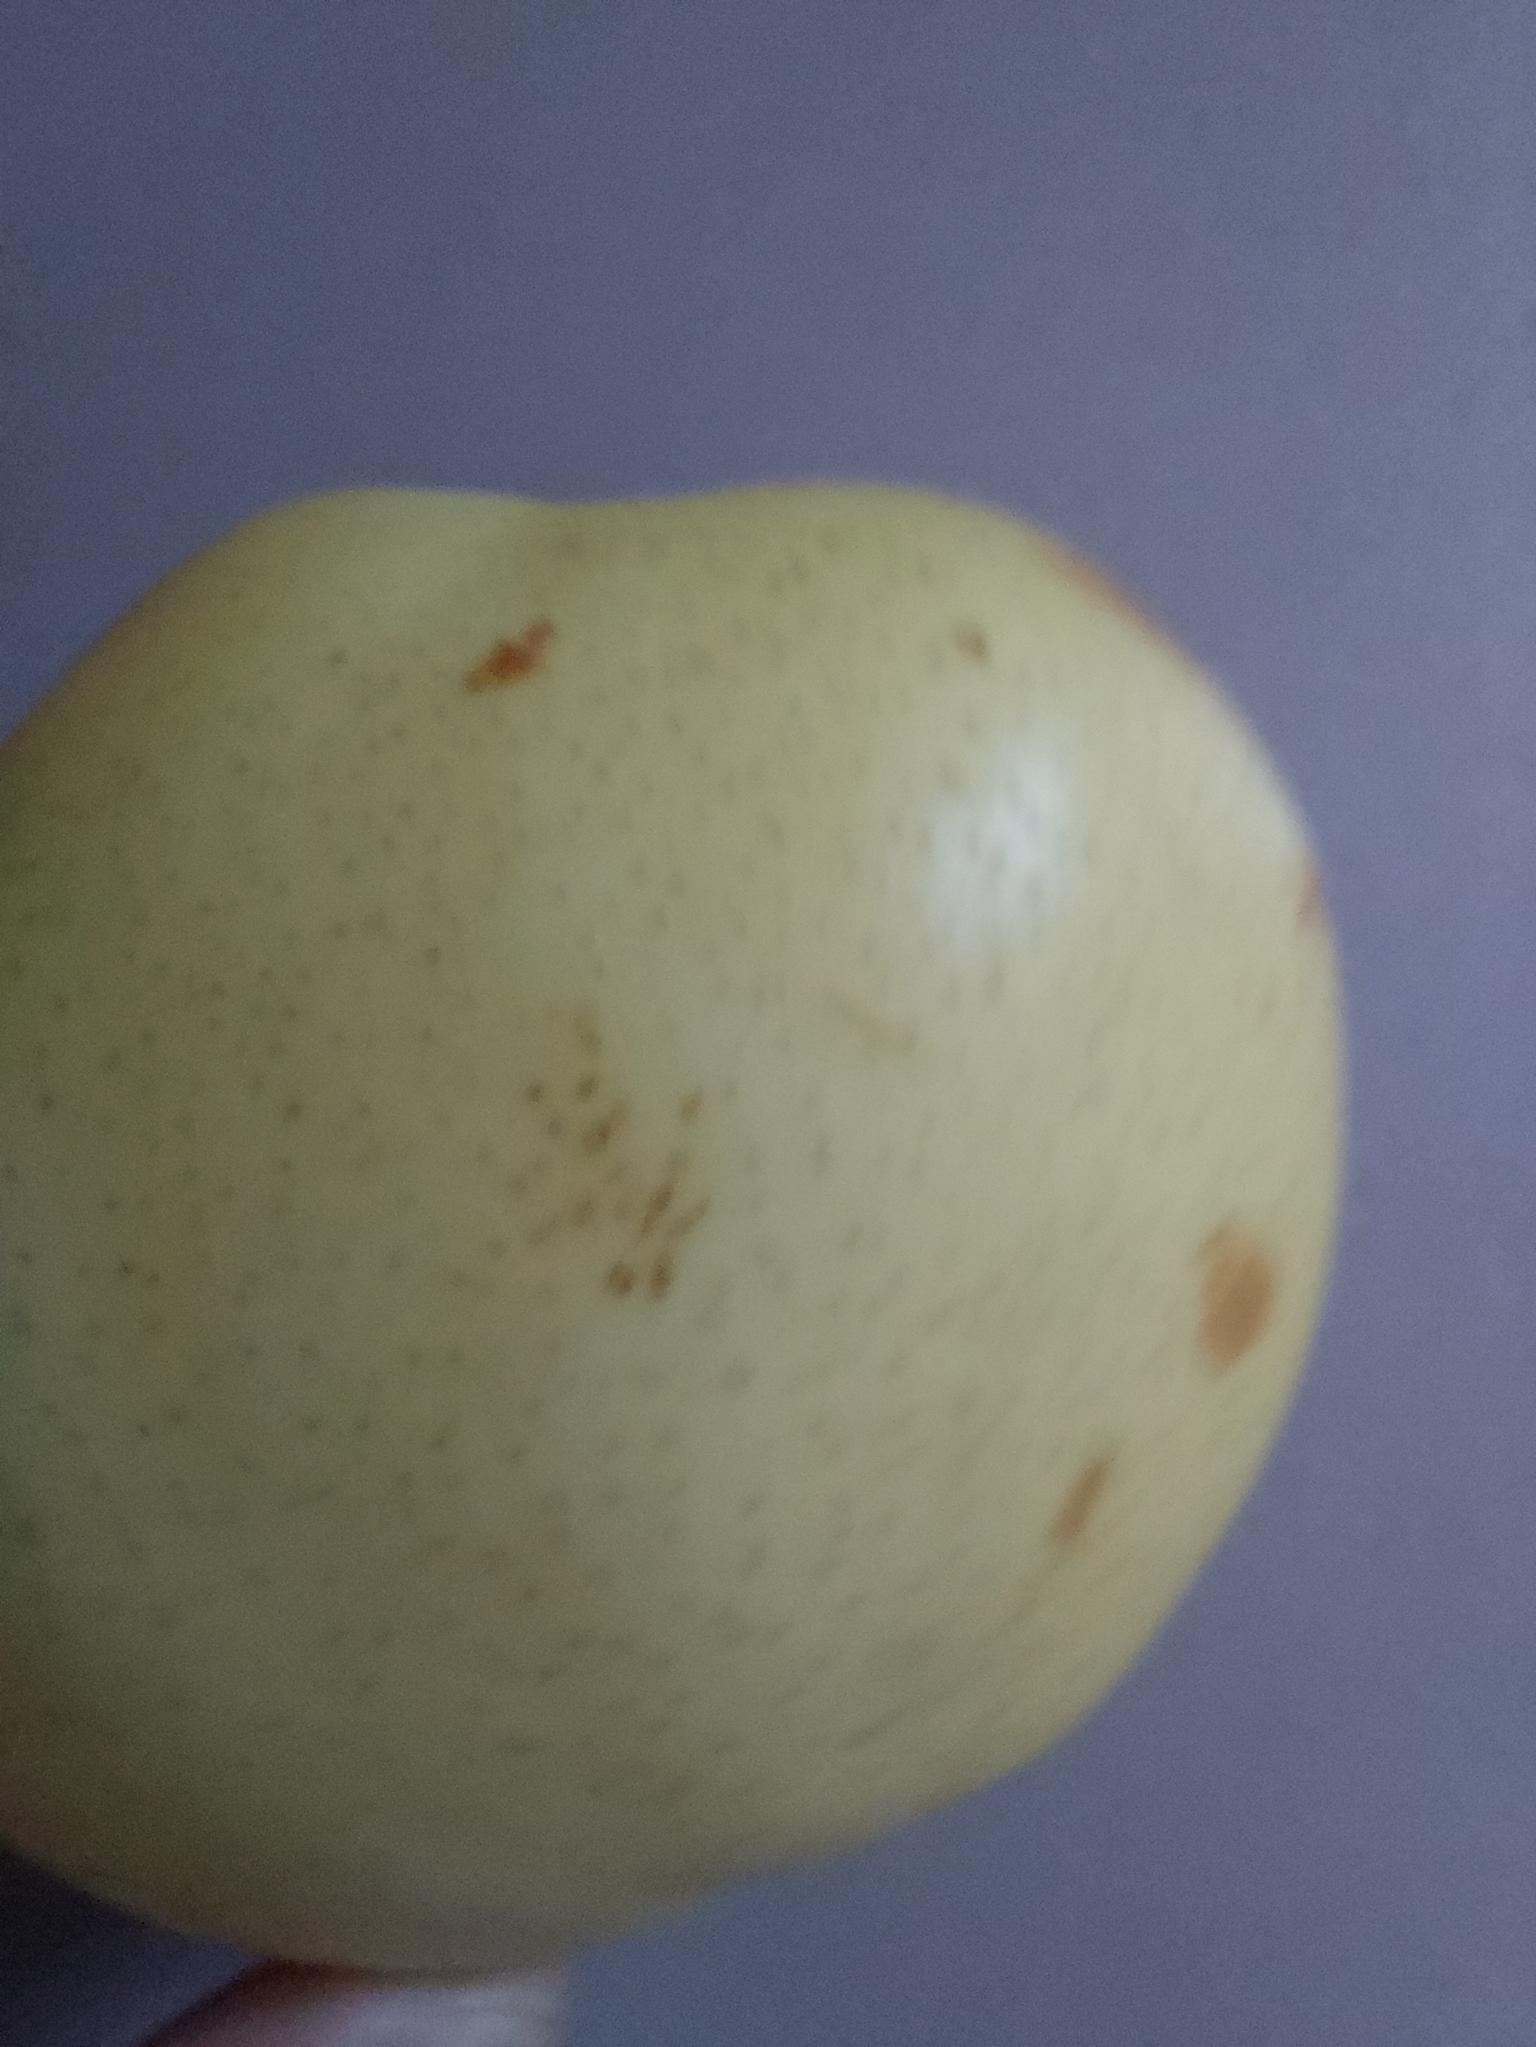Good Pear: (0, 479, 1359, 1978)
